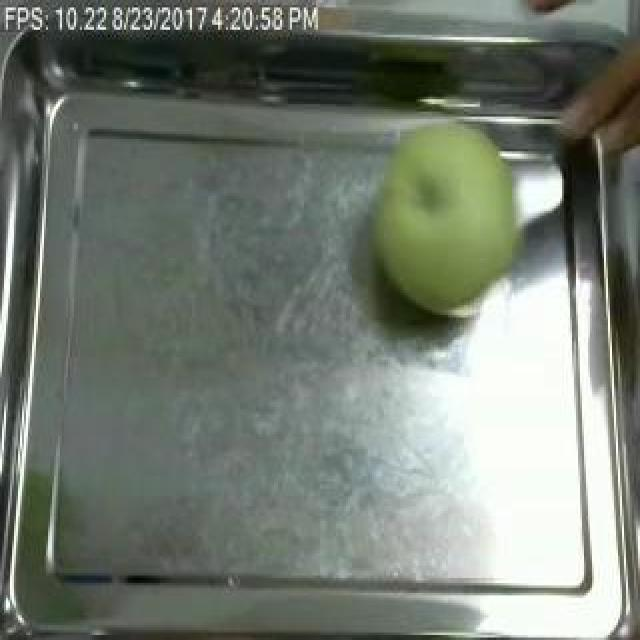Rotten Apple: (372, 113, 520, 321)
